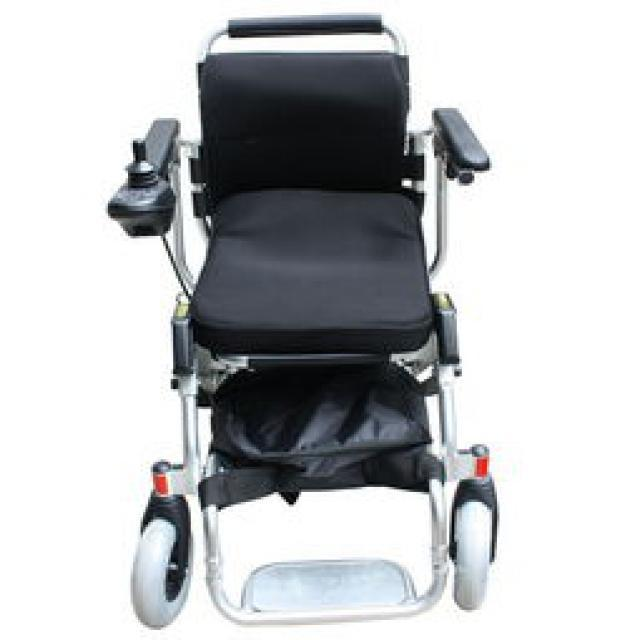wheelchairs: (110, 14, 502, 634)
